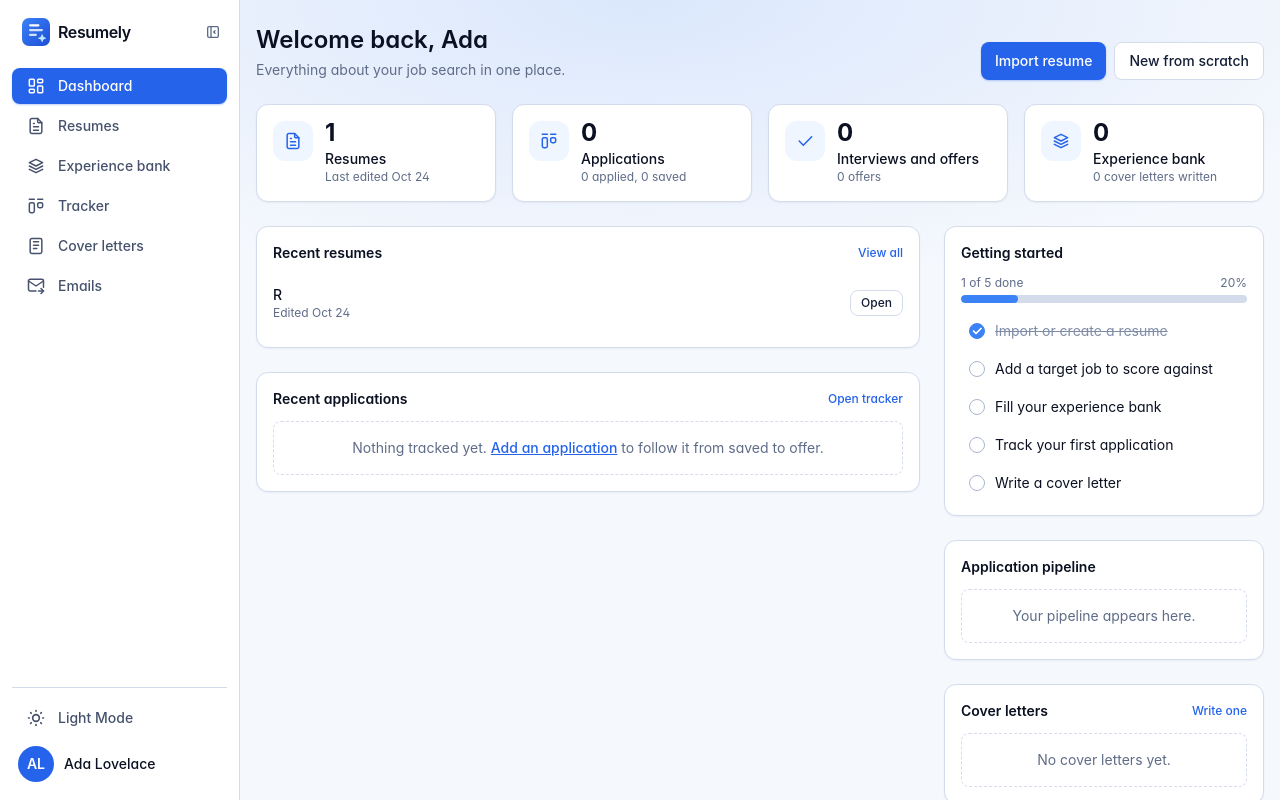
navbar › collapses and expands the sidebar, showing the full name only when expanded
Expected: the button with aria-label "Profile" shows "Ada Lovelace", [12,740,227,788]
Step 1. Click the button named "Collapse sidebar" → (213, 32), box [199,18,227,46]
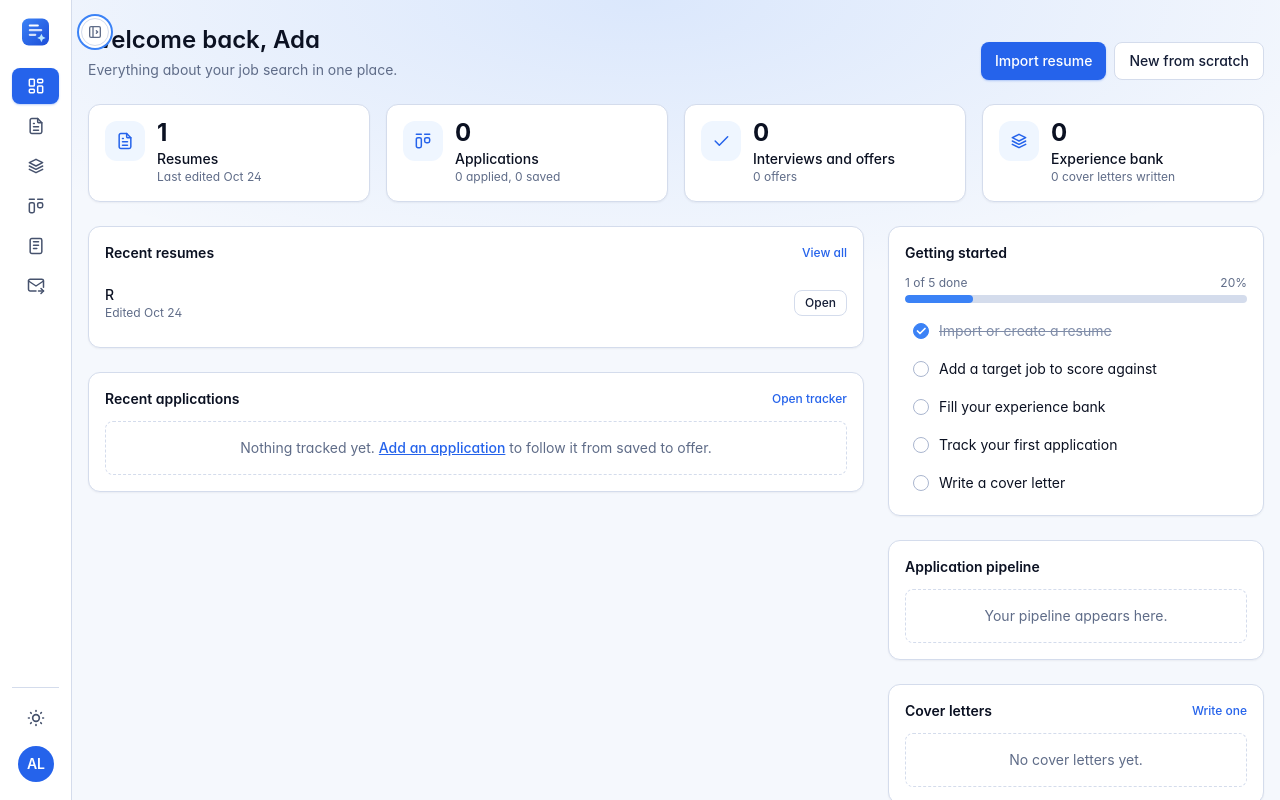
Step 2. Click the button named "Expand sidebar" → (95, 32), box [81,18,109,46]
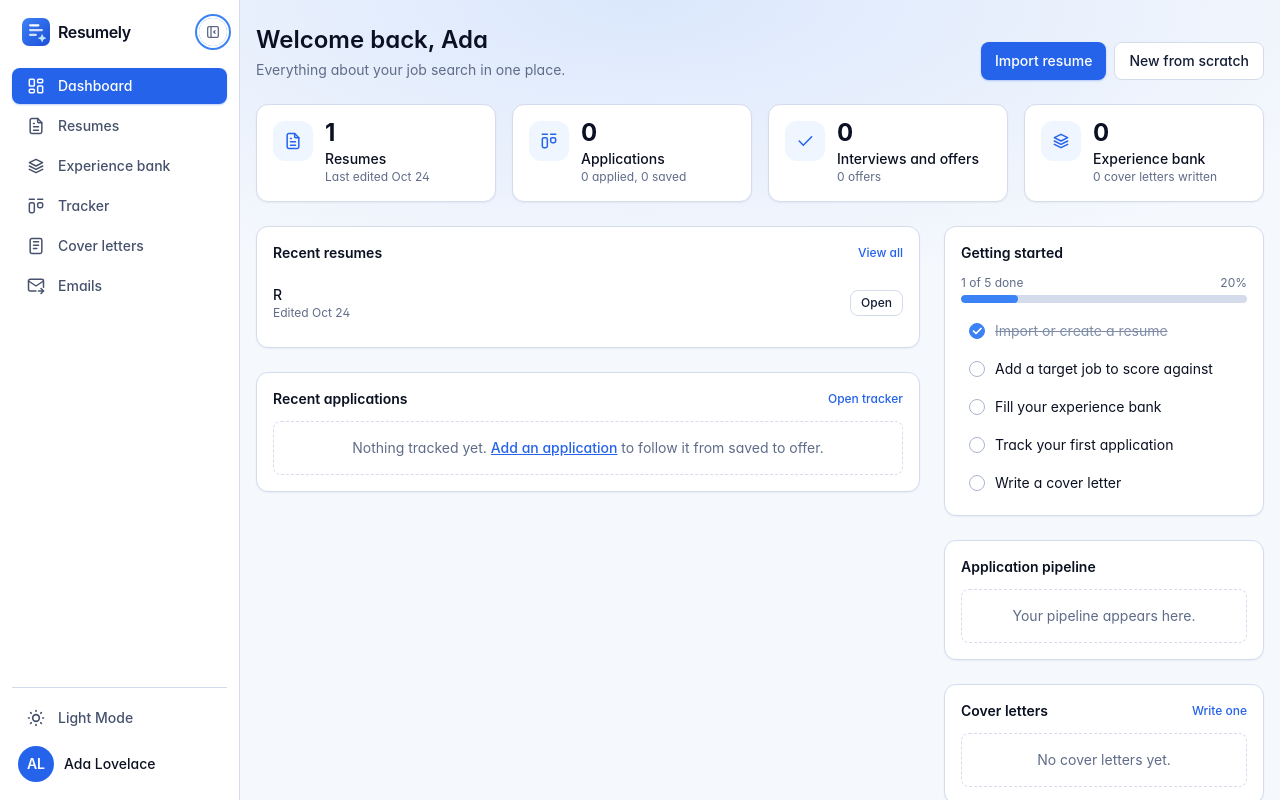
Expected: the button with aria-label "Profile" shows "Ada Lovelace", [12,740,227,788]
